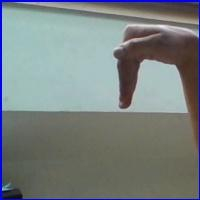del: (109, 21, 192, 120)
